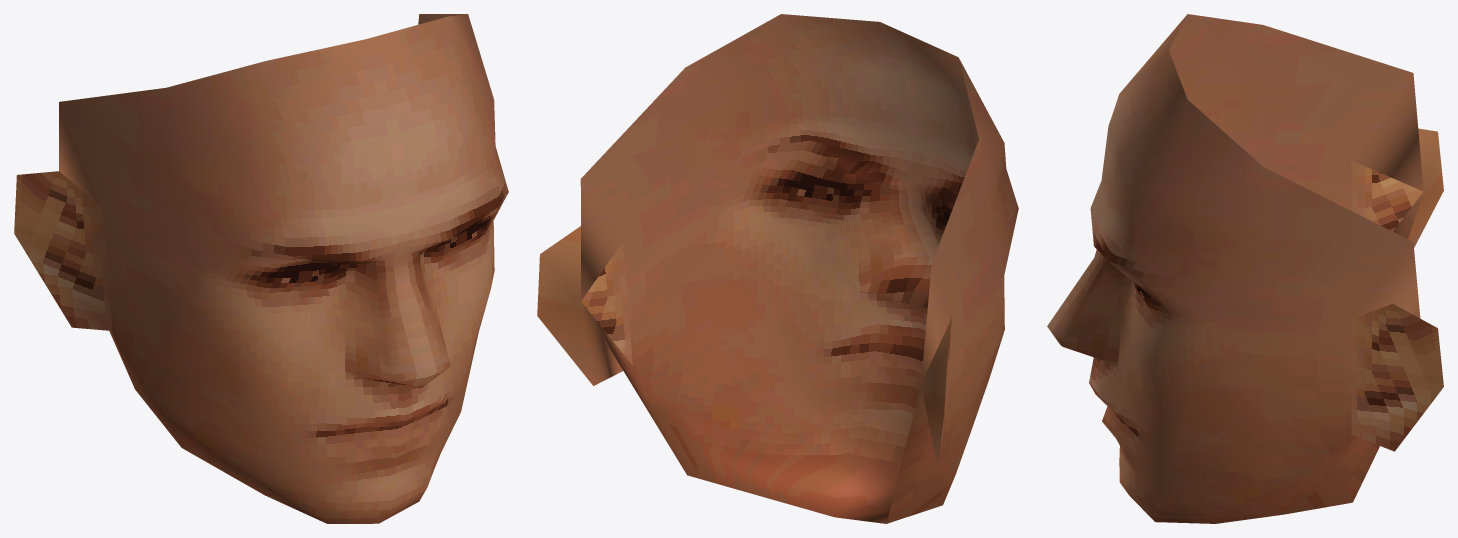
3 views of the same model, side by side, from view 1: azimuth 30°, elevation 25°; view 2: azimuth 150°, elevation 25°; view 3: azimuth 270°, elevation 25° (orthographic). The views are drawn at different scales.
Bounding box in the file's own units: 17.18 × 18.64 × 14.66.
1 material, 1 textured.
